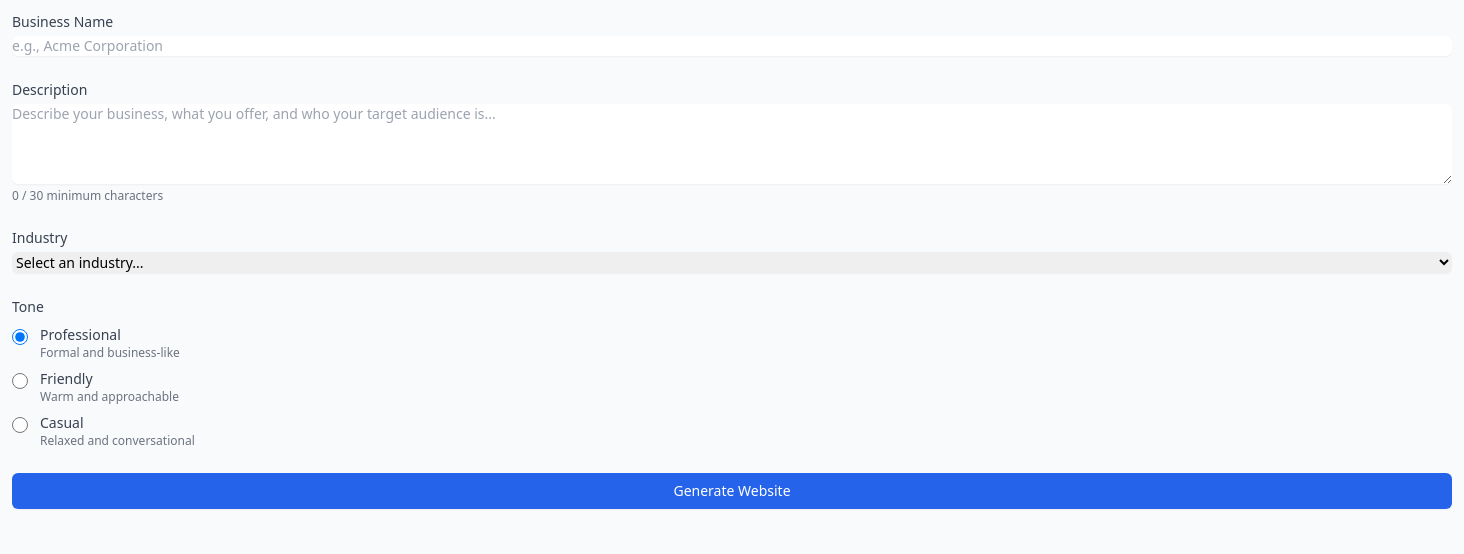
Test: PromptInput › should show validation error when description is too short
In the field labelled "Business Name": [732, 46] box [12,36,1452,56], type "My Business"
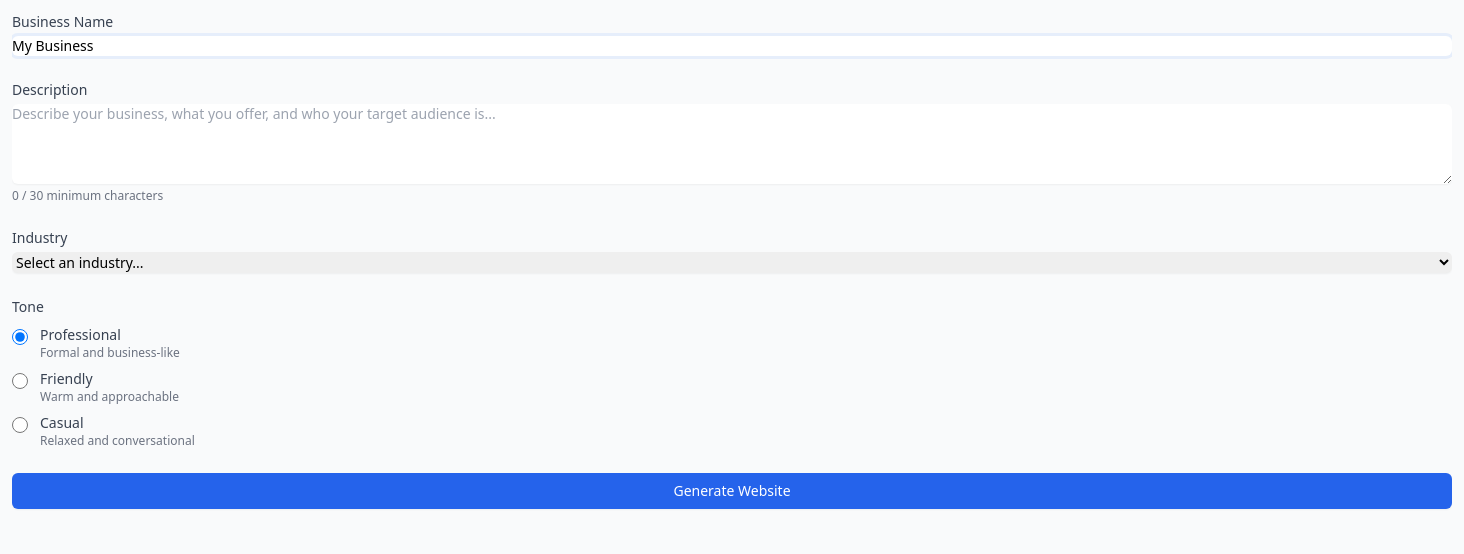
In the text box labelled "Description": [732, 144] box [12,104,1452,184], type "Too short"
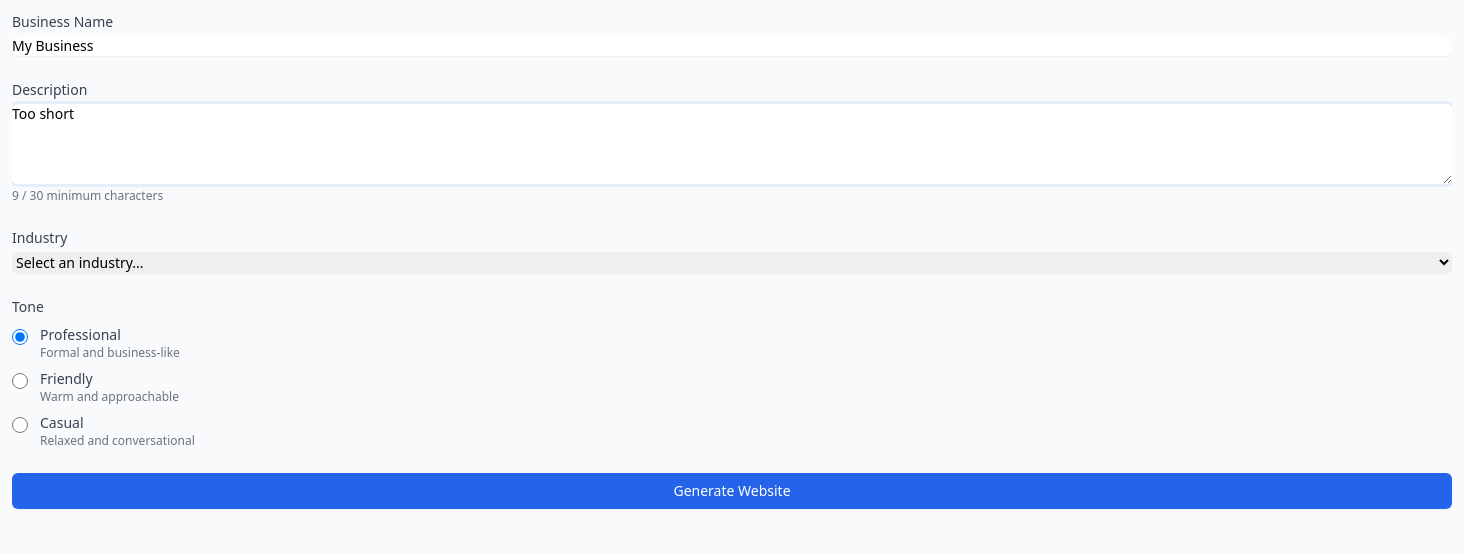
Click the button "Generate Website": [732, 491] box [12,473,1452,509]
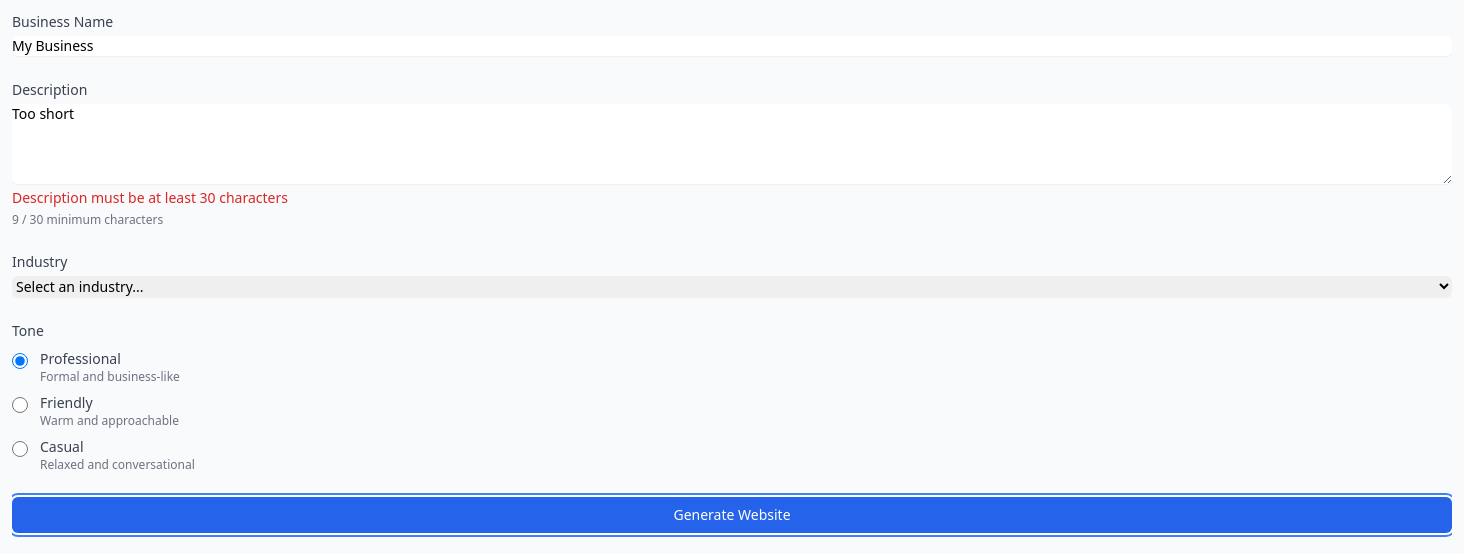
Expected: the text "Description must be at least 30 characters" is shown, [12,188,288,207]
